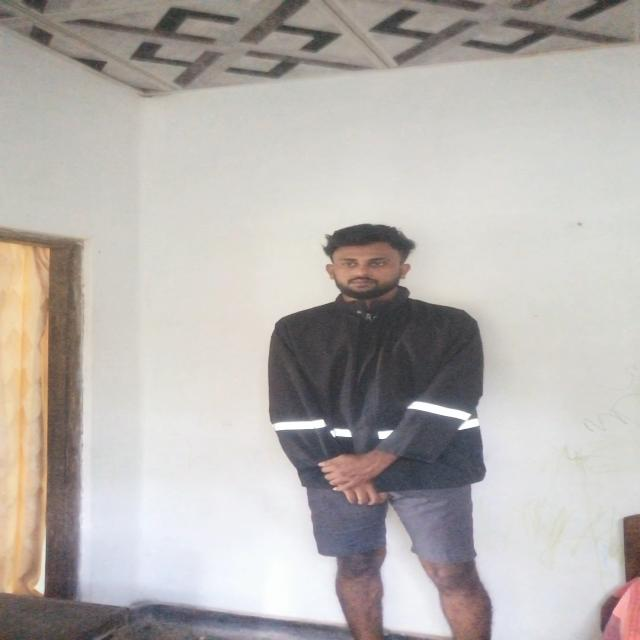Jacket_Wearer: (217, 284, 524, 496)
